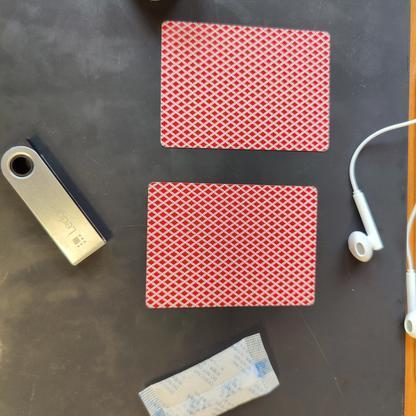card: (132, 170, 327, 320), (147, 12, 342, 162)
